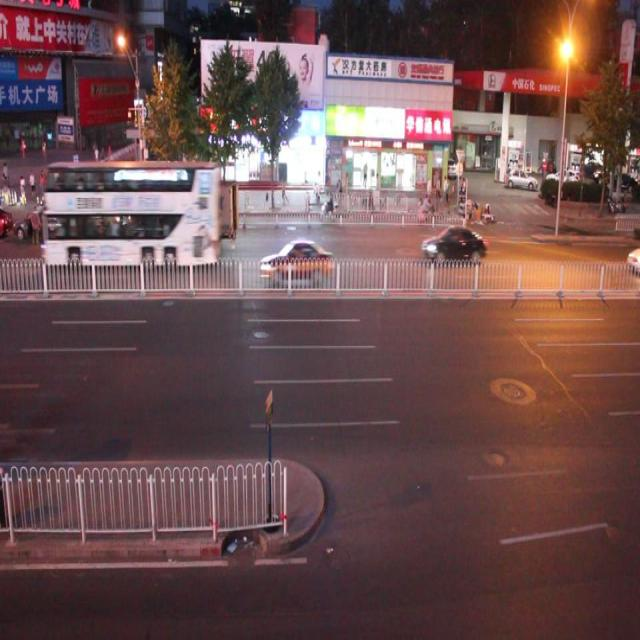bus: (153, 184, 240, 259)
car: (260, 236, 332, 288), (420, 224, 489, 268), (120, 210, 182, 251), (13, 204, 69, 248), (86, 200, 129, 242), (47, 183, 80, 219)
van: (40, 157, 221, 266)
